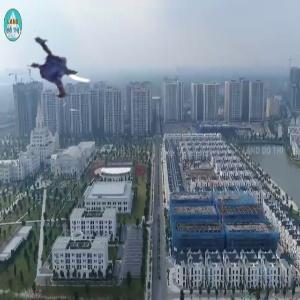drone: (15, 27, 106, 118)
